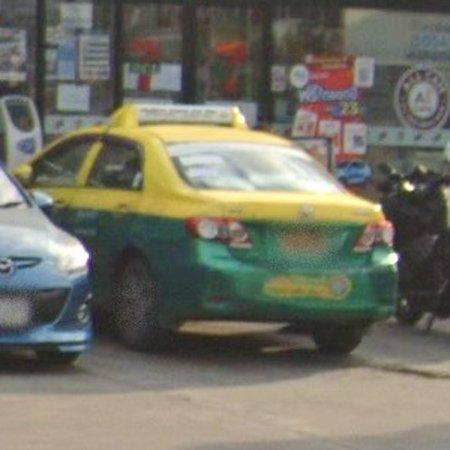taxis: (16, 105, 398, 354)
